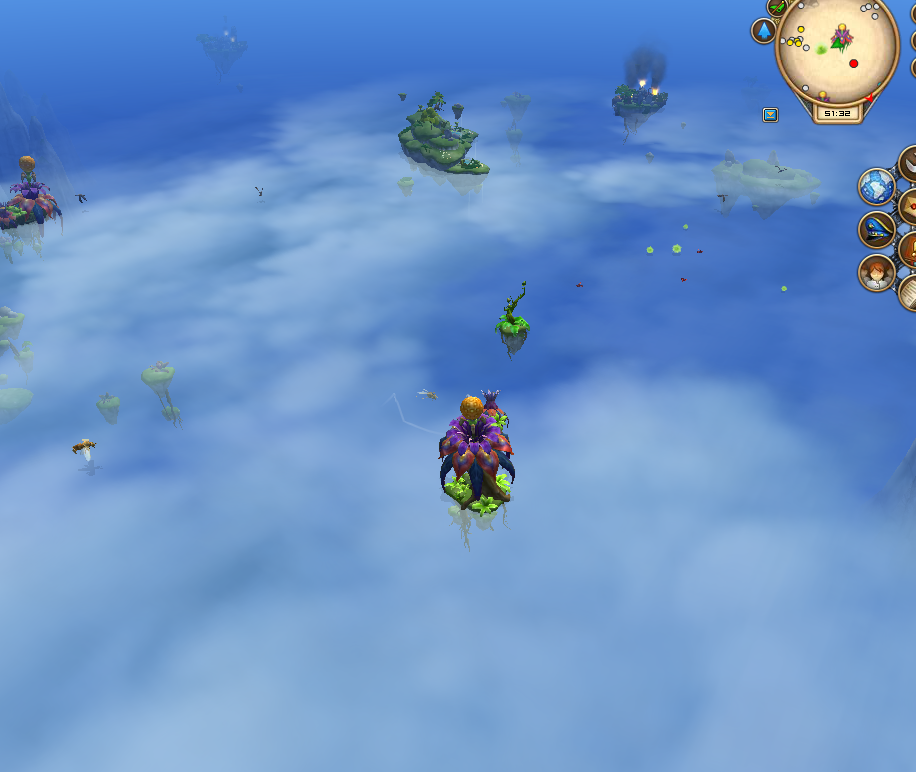dandelion-empty: (489, 274, 536, 352)
fluff: (641, 240, 658, 258), (667, 241, 684, 258), (680, 218, 691, 235), (779, 281, 790, 297)
